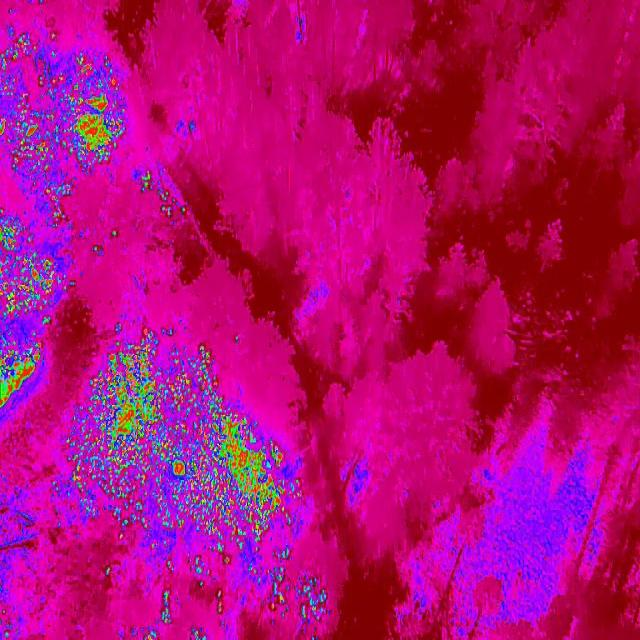fire: (70, 324, 211, 538), (0, 25, 127, 175), (245, 546, 330, 640), (210, 416, 253, 546), (252, 434, 300, 550), (0, 246, 67, 326), (188, 540, 237, 618), (0, 337, 41, 415), (147, 538, 177, 628), (137, 167, 186, 221), (39, 178, 74, 230), (89, 226, 120, 260), (0, 208, 26, 248), (211, 376, 232, 416), (188, 626, 210, 640), (142, 621, 158, 640), (103, 566, 114, 578)
